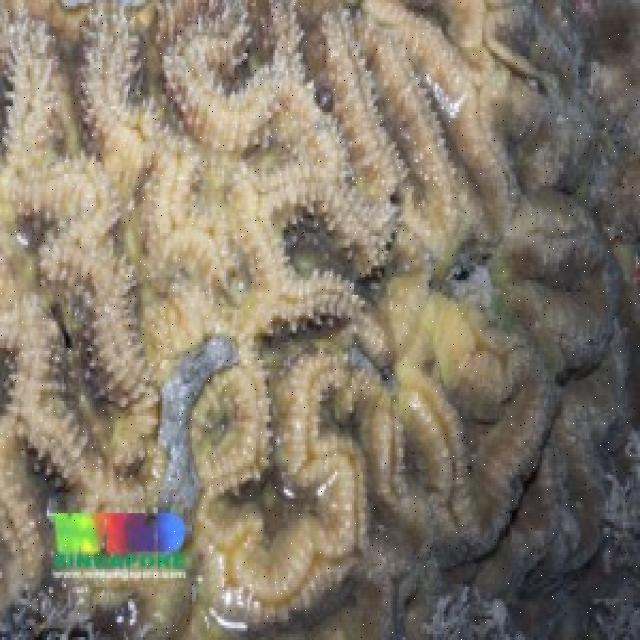Bleached: (1, 7, 457, 615)
Healthy: (519, 4, 640, 621)
